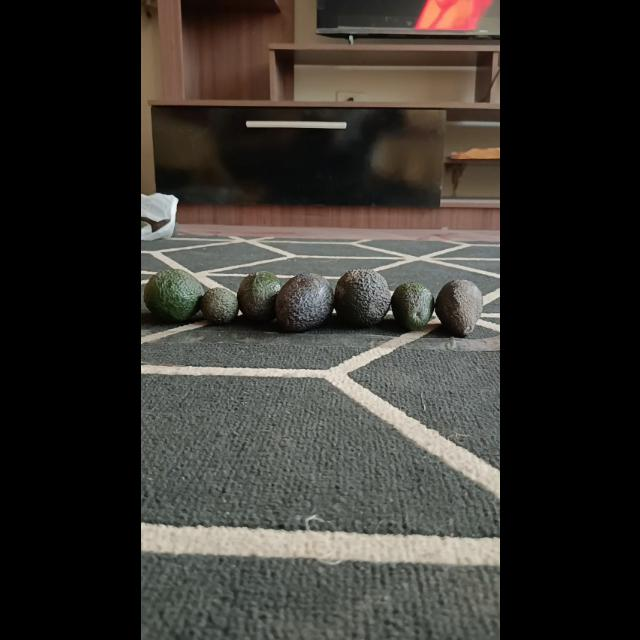Primera: (276, 272, 334, 332), (332, 268, 392, 326), (143, 268, 205, 322)
Segunda: (433, 278, 482, 338), (236, 270, 282, 322), (389, 281, 435, 331)
Tercera: (197, 286, 239, 326)
